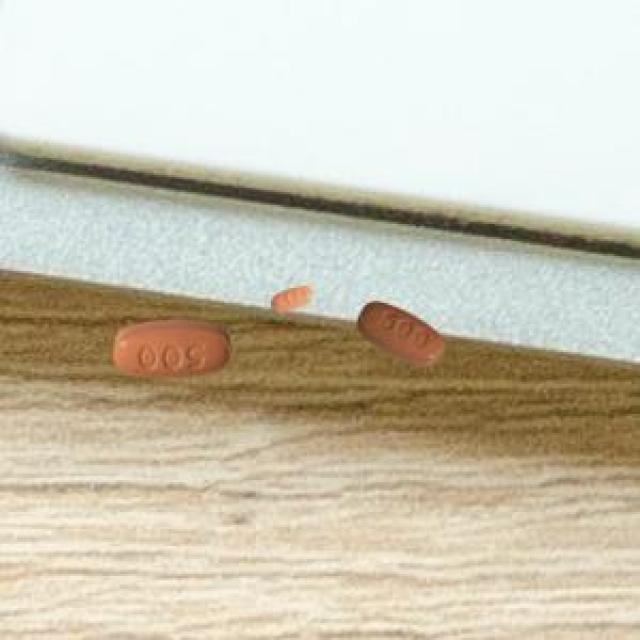Biogesic: (100, 313, 238, 395), (348, 286, 458, 384), (266, 274, 322, 325)
